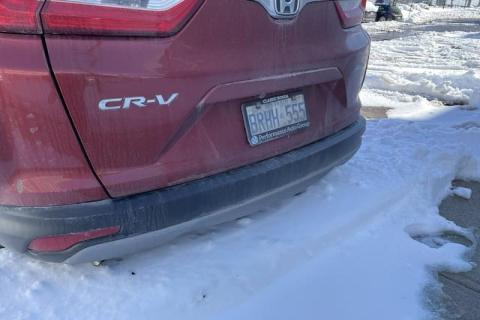LicensePlate: (239, 88, 310, 146)
